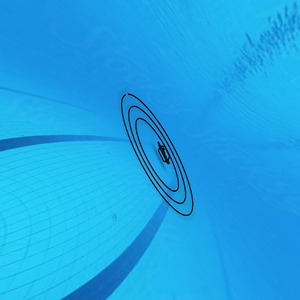circle: (114, 90, 196, 221)
submarine: (157, 141, 170, 166)
